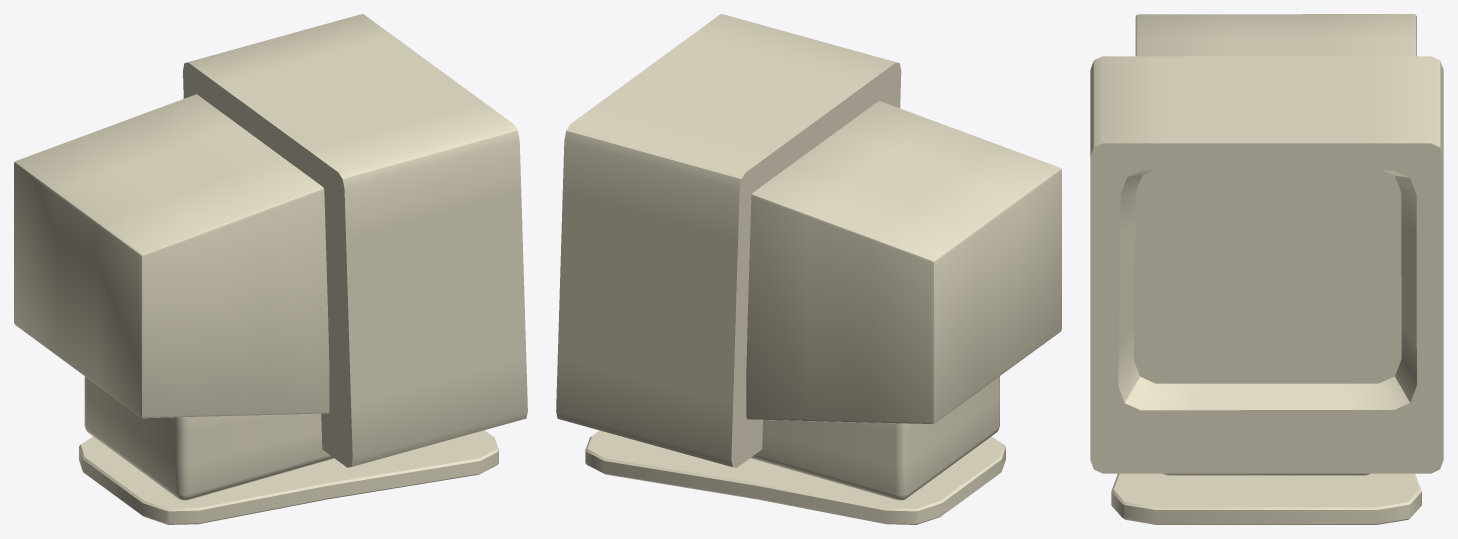
The model's file is Monitornoscreen.fbx.
3 views of the same model, side by side, from view 1: azimuth 30°, elevation 25°; view 2: azimuth 150°, elevation 25°; view 3: azimuth 270°, elevation 25° (orthographic). The views are drawn at different scales.
Visible parts, largest first — view 1: Cylinder; view 2: Cylinder; view 3: Cylinder.
Boxes of the visible parts, x1,y1,x2,y2 form: Cylinder: (14,14,527,524); Cylinder: (556,14,1061,524); Cylinder: (1090,14,1443,524).
Size of the model in its own units: 424 by 384 by 324.
